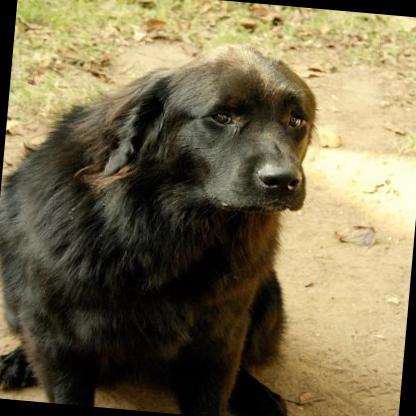Newfoundland: (0, 23, 333, 416)
